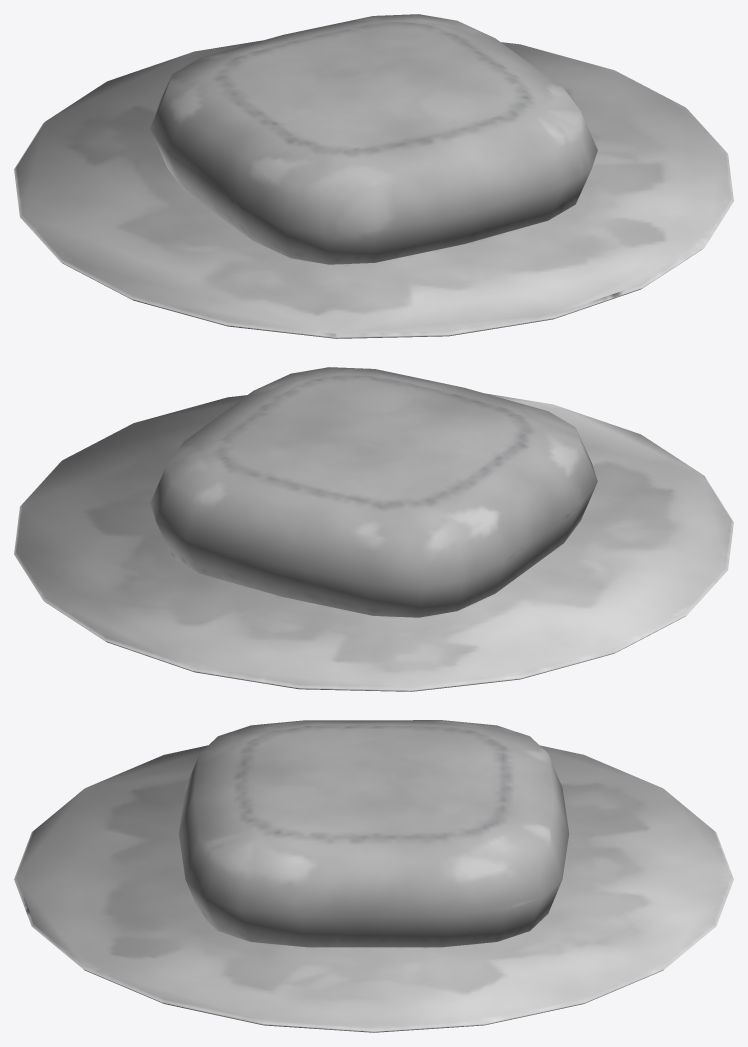
File: Head_C1.fbx
3 views of the same model, one above another, from view 1: azimuth 30°, elevation 25°; view 2: azimuth 150°, elevation 25°; view 3: azimuth 270°, elevation 25° (orthographic).
Parts seen in each view (by area): view 1: Civ_Sombrero_Head_C1; view 2: Civ_Sombrero_Head_C1; view 3: Civ_Sombrero_Head_C1.
Boxes of the visible parts, <box> form: Civ_Sombrero_Head_C1: <box>14,14,733,338</box>; Civ_Sombrero_Head_C1: <box>14,367,733,691</box>; Civ_Sombrero_Head_C1: <box>14,720,733,1032</box>.
Bounding box in the file's own units: 2.4 × 0.4137 × 2.4.
